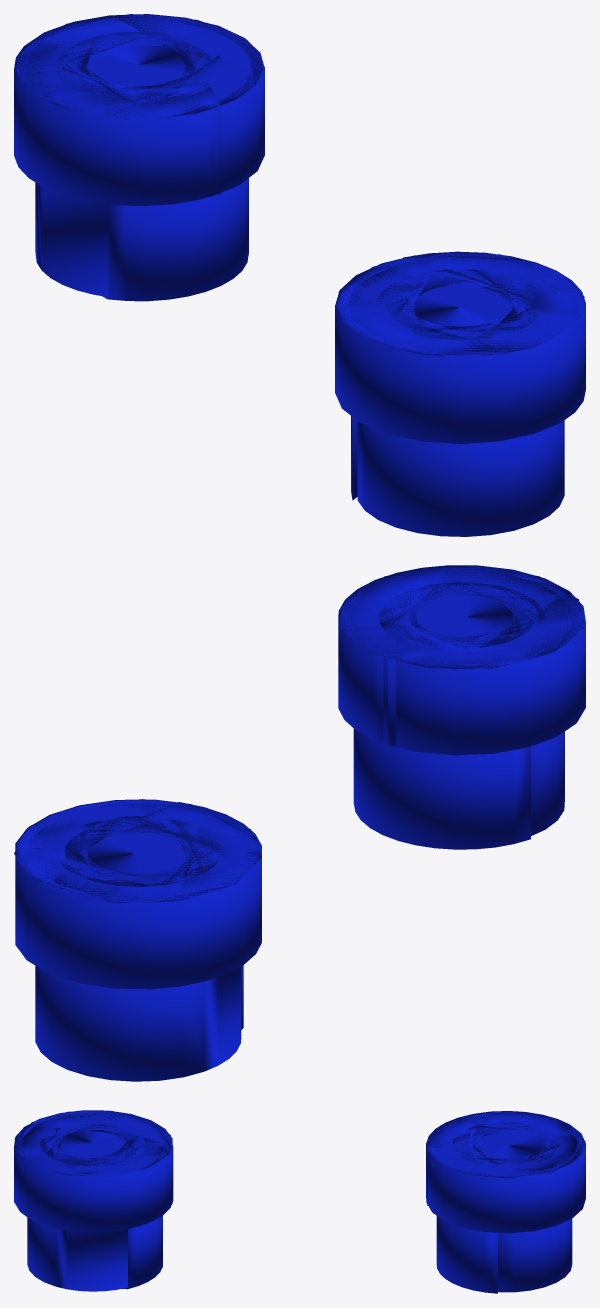
The model's file is tuyeau_element_000047.obj.
The picture shows the model from 3 angles, top to bottom: view 1: azimuth 30°, elevation 25°; view 2: azimuth 150°, elevation 25°; view 3: azimuth 270°, elevation 25°; orthographic projection. The views are drawn at different scales.
Parts seen in each view (by area): view 1: tuyeau1_Cube.014, tuyeau2_Cube.017; view 2: tuyeau2_Cube.017, tuyeau1_Cube.014; view 3: tuyeau1_Cube.014, tuyeau2_Cube.017.
Part boxes in pixels (box(x1,y1,x2,y2)): tuyeau1_Cube.014: box(14, 14, 264, 301); tuyeau2_Cube.017: box(335, 251, 585, 536); tuyeau2_Cube.017: box(338, 565, 585, 849); tuyeau1_Cube.014: box(14, 799, 261, 1081); tuyeau1_Cube.014: box(426, 1111, 585, 1293); tuyeau2_Cube.017: box(14, 1110, 173, 1291).
Size of the model in its own units: 3563 by 2917 by 12620.
